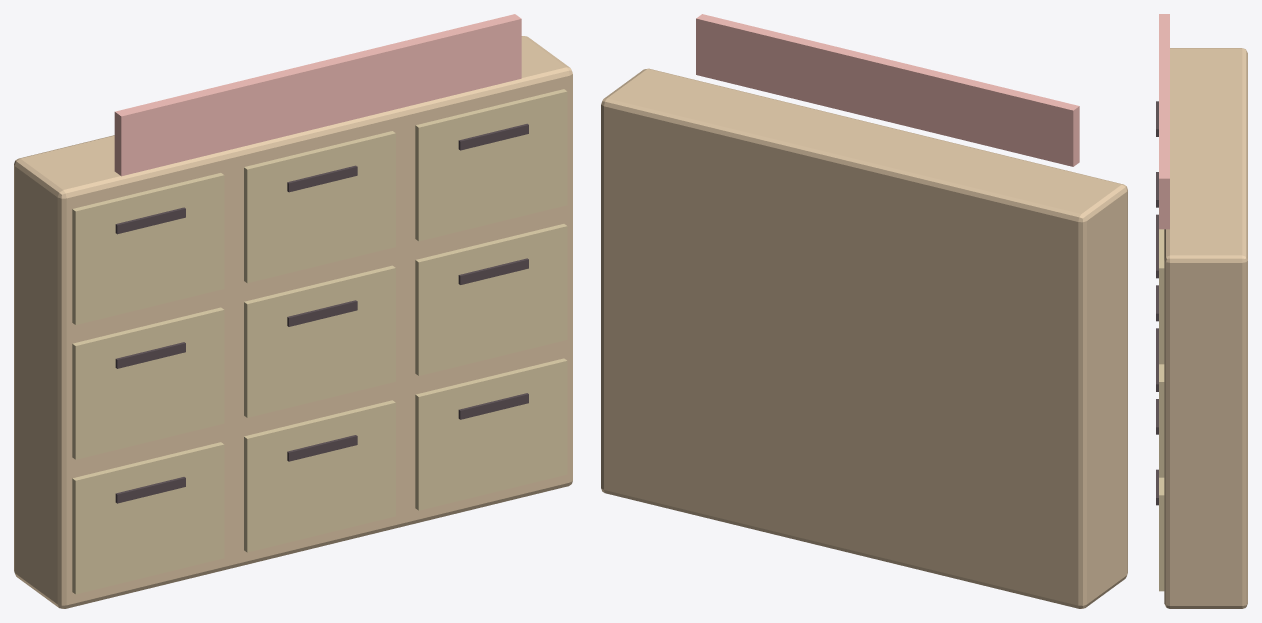
Rendered from caixas_correio.glb.
3 renders of one model, left to right at view 1: azimuth 30°, elevation 25°; view 2: azimuth 150°, elevation 25°; view 3: azimuth 270°, elevation 25°, orthographic. The views are drawn at different scales.
Parts seen in each view (by area): view 1: caixas_correio; view 2: caixas_correio; view 3: caixas_correio.
Boxes of the visible parts, x1=… form: caixas_correio: x1=14, y1=14, x2=572, y2=608; caixas_correio: x1=601, y1=14, x2=1127, y2=608; caixas_correio: x1=1156, y1=14, x2=1247, y2=608.
Size of the model in its own units: 1.8 by 1.62 by 0.33.
